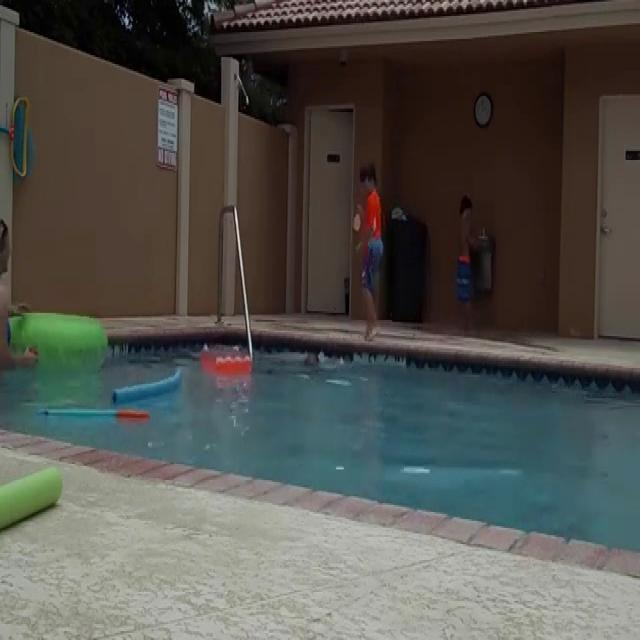adult: (0, 212, 31, 375)
child: (354, 165, 392, 340), (456, 192, 476, 327)
